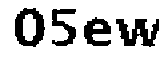0: (10, 3, 46, 50)
5: (48, 4, 82, 52)
e: (82, 17, 114, 49)
w: (114, 14, 160, 50)
